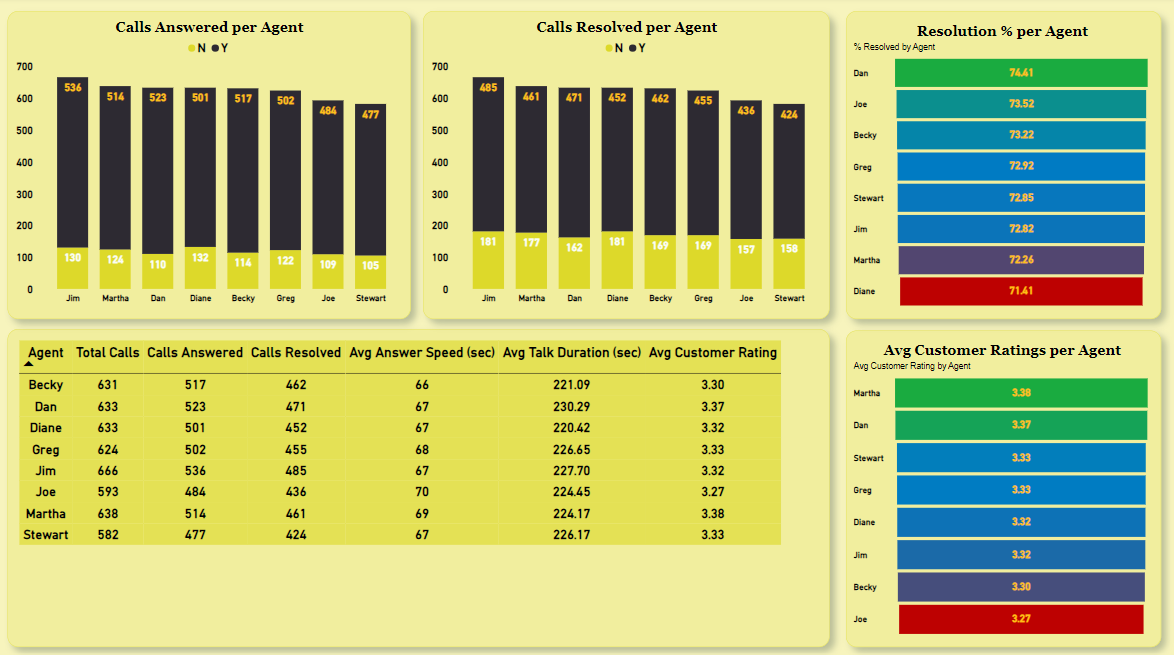

The page's visual inventory and layout, read from the dashboard file:
{"tool":"powerbi","page":{"name":"Agent wise details","canvas":[1664,936],"ordinal":1},"visuals":[{"type":"tableEx","fields":{"Values":["Data.Agent","Measure Table.Total Calls","Measure Table.Calls Answered","Measure Table.Calls Resolved","Measure Table.Avg Answer Speed (sec)","Measure Table.Avg Talk Duration (sec)","Measure Table.Avg Customer Rating"]},"box":[14.5,467,1153,446.3],"z":0},{"type":"funnel","title":"Avg Customer Ratings per Agent","fields":{"Category":["Data.Agent"],"Y":["Measure Table.Avg Customer Rating"]},"box":[1190.1,469,442.2,444.2],"z":1000},{"type":"funnel","title":"Resolution % per Agent","fields":{"Category":["Data.Agent"],"Y":["Measure Table.% Resolved"]},"box":[1190.1,20.7,442.2,431.8],"z":2000},{"type":"columnChart","title":"Calls Answered per Agent","fields":{"Category":["Data.Agent"],"Y":["Measure Table.Total Calls"],"Series":["Data.Answered (Y/N)"]},"box":[14.5,20.7,565,431.8],"z":3000},{"type":"columnChart","title":"Calls Resolved per Agent","fields":{"Category":["Data.Agent"],"Y":["Measure Table.Total Calls"],"Series":["Data.Resolved"]},"box":[597.1,20.7,570.3,431.8],"z":4000}]}

Visuals, with their boxes in screenshot pixels (x1, y1, x2, y2), scaled from the page's 1664x936 canvas onto the 1174x655 screenshot:
tableEx - Data.Agent x Measure Table.Total Calls: [x1=10, y1=327, x2=824, y2=639]
"Avg Customer Ratings per Agent" funnel: [x1=840, y1=328, x2=1152, y2=639]
"Resolution % per Agent" funnel: [x1=840, y1=14, x2=1152, y2=317]
"Calls Answered per Agent" columnChart: [x1=10, y1=14, x2=409, y2=317]
"Calls Resolved per Agent" columnChart: [x1=421, y1=14, x2=824, y2=317]
